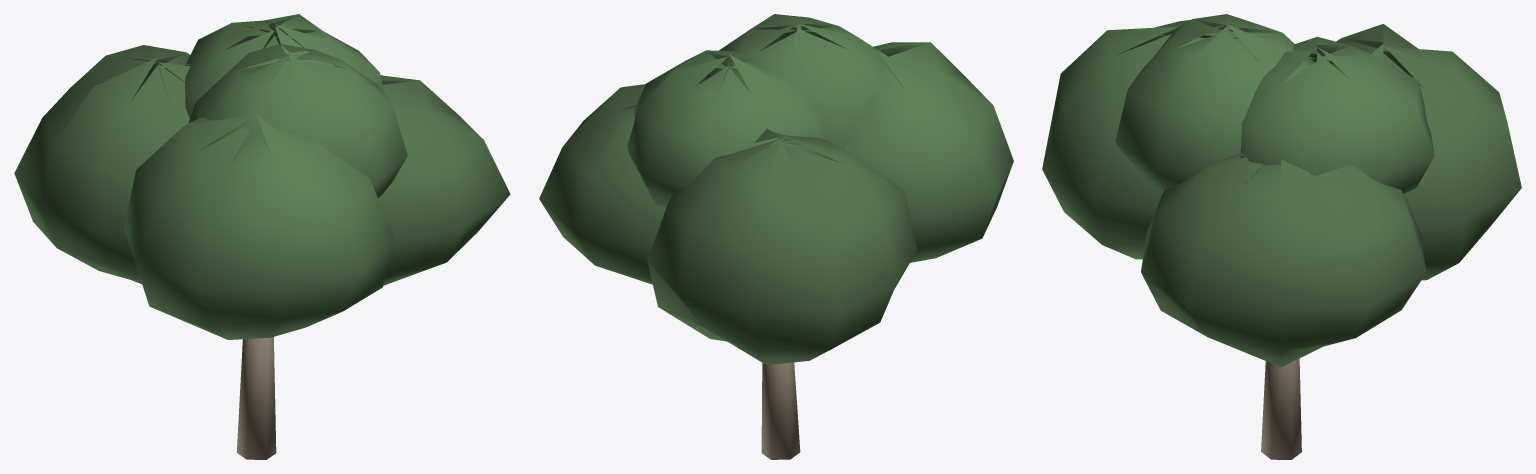
File: mango-mid.glb
3 views of the same model, side by side, from view 1: azimuth 30°, elevation 25°; view 2: azimuth 150°, elevation 25°; view 3: azimuth 270°, elevation 25° (orthographic). The views are drawn at different scales.
Parts seen in each view (by area): view 1: mango-mid_canopy_mango, mango-mid_canopy_mango_shade, mango-mid_canopy_bark; view 2: mango-mid_canopy_mango_shade, mango-mid_canopy_mango, mango-mid_canopy_bark; view 3: mango-mid_canopy_mango_shade, mango-mid_canopy_mango, mango-mid_canopy_bark.
Boxes of the visible parts, bbox=[...] form: mango-mid_canopy_mango: bbox=[124, 14, 407, 339]; mango-mid_canopy_mango_shade: bbox=[14, 45, 510, 285]; mango-mid_canopy_bark: bbox=[236, 337, 276, 459]; mango-mid_canopy_mango_shade: bbox=[539, 83, 917, 365]; mango-mid_canopy_mango: bbox=[627, 14, 1013, 262]; mango-mid_canopy_bark: bbox=[761, 362, 800, 459]; mango-mid_canopy_mango_shade: bbox=[1141, 24, 1521, 367]; mango-mid_canopy_mango: bbox=[1042, 14, 1434, 259]; mango-mid_canopy_bark: bbox=[1261, 358, 1301, 459].
Bounding box in the file's own units: 11.13 × 11.66 × 11.72.
